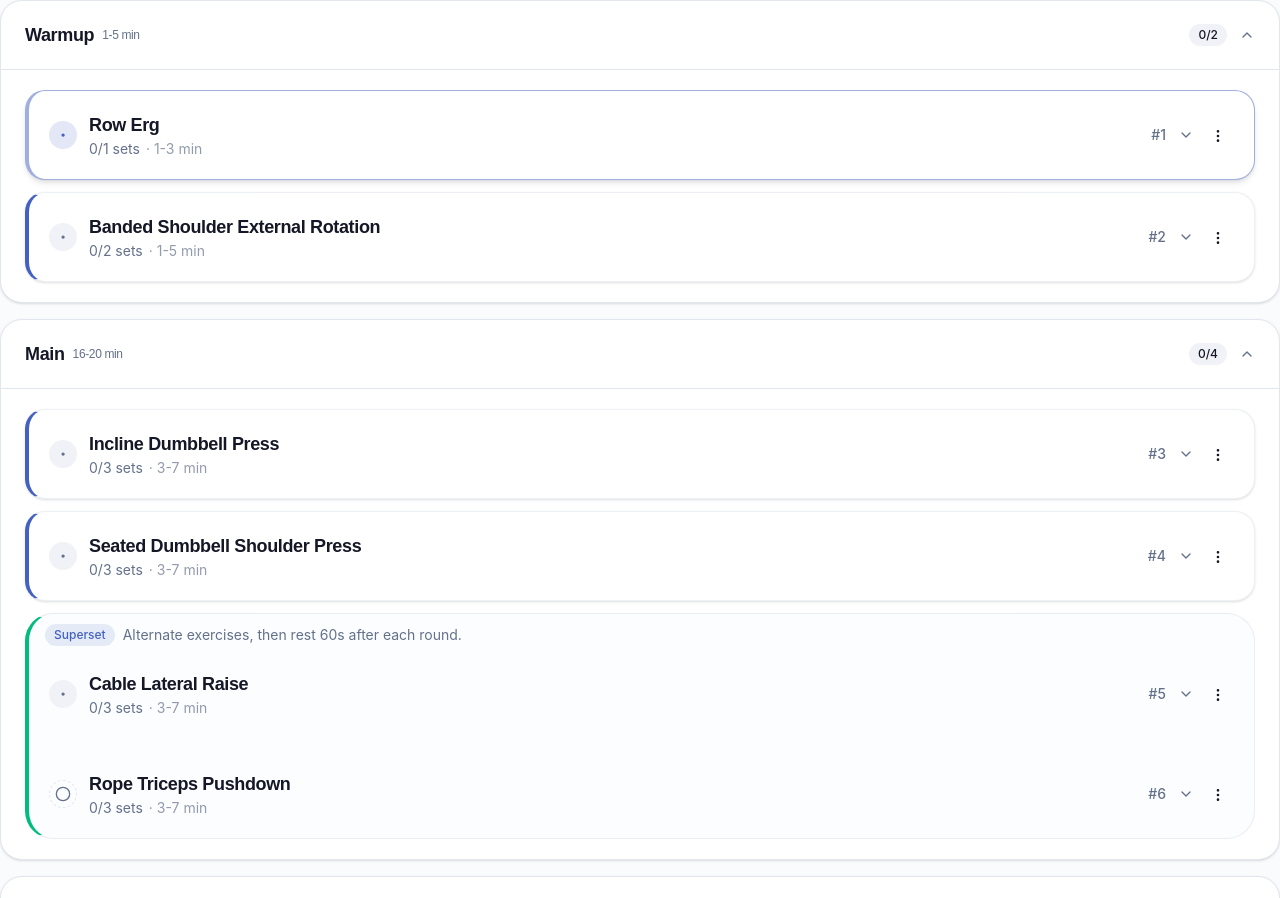
SessionExerciseList › toggles exercise expansion when clicking the exercise title text
Click the text "Row Erg" at (124, 125), box [89, 115, 160, 135]
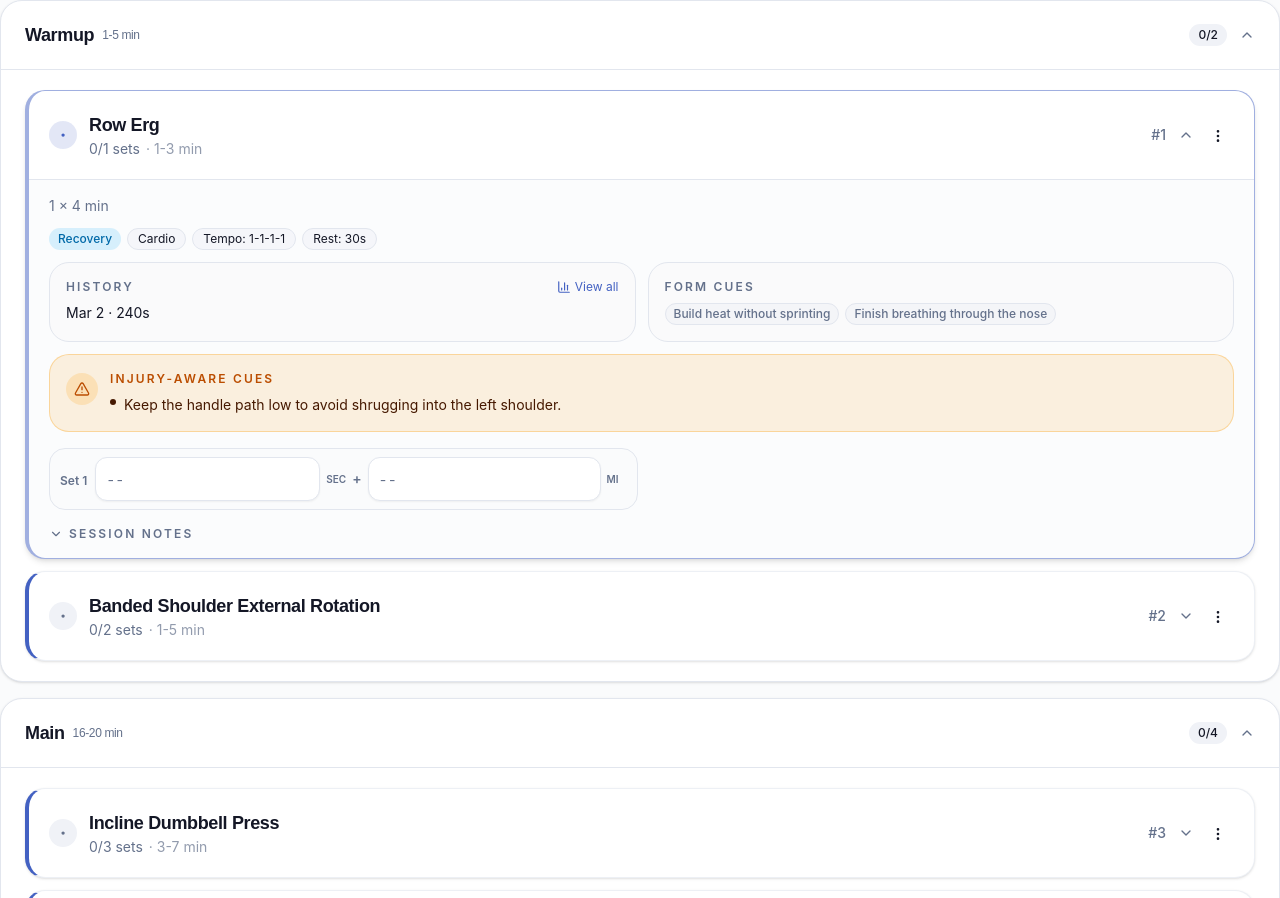
Expected: the button "Row Erg 0/1 sets· 1-3 min #1" is expanded, [49, 115, 1234, 157]
